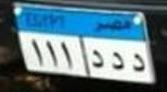1: (60, 41, 78, 70), (45, 39, 59, 70), (31, 38, 43, 67)
daal: (110, 49, 126, 74), (130, 52, 147, 74), (90, 49, 105, 70)
